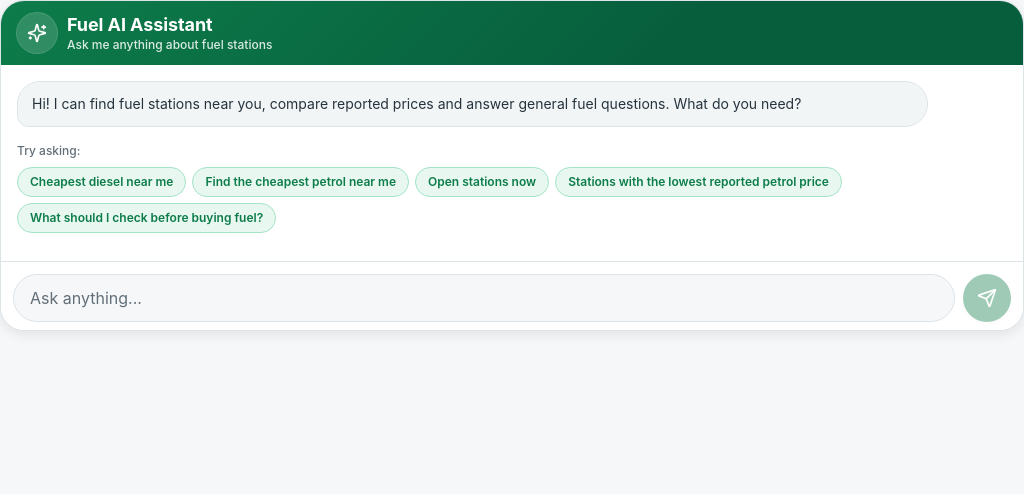
location honesty › rejects a coarse GPS fix and never sends it to the backend
Type "cheapest petrol" into the field named "Ask Fuel AI".
click(484, 298); type("cheapest petrol")  # box [13,274,955,322]
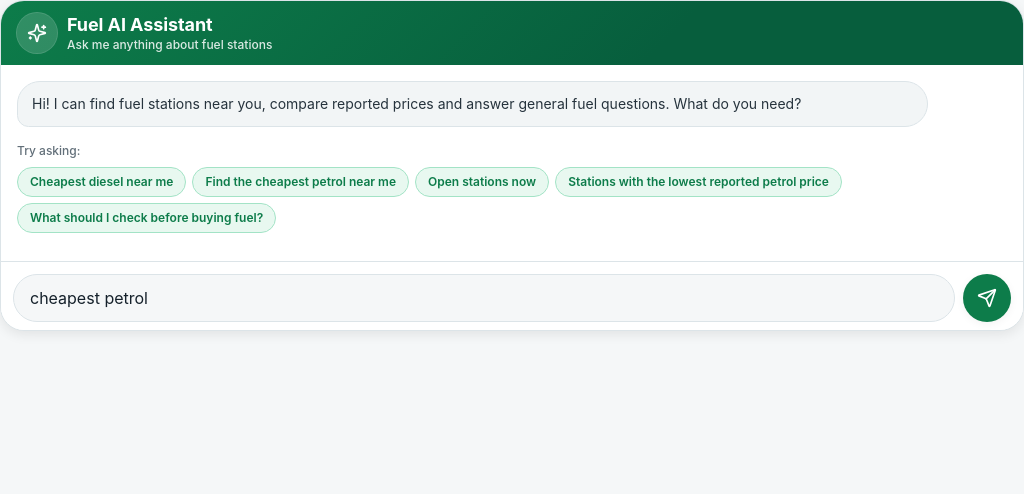
Click the button named "ask fuel ai".
click(987, 298)  # box [963,274,1011,322]
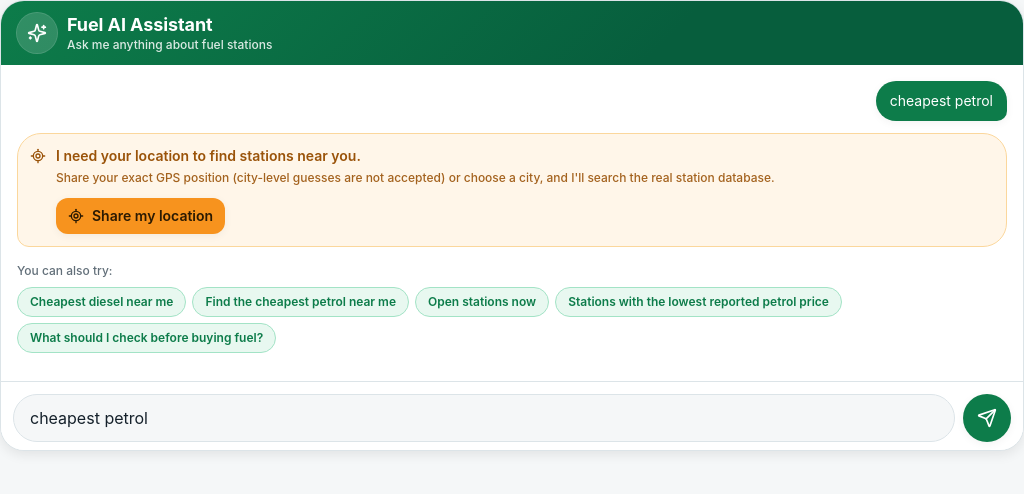
Expected: the text "I need your location to find stations near you." is shown, [56,147,361,164]
Click the button "Share my location".
click(141, 216)  # box [56,198,225,234]
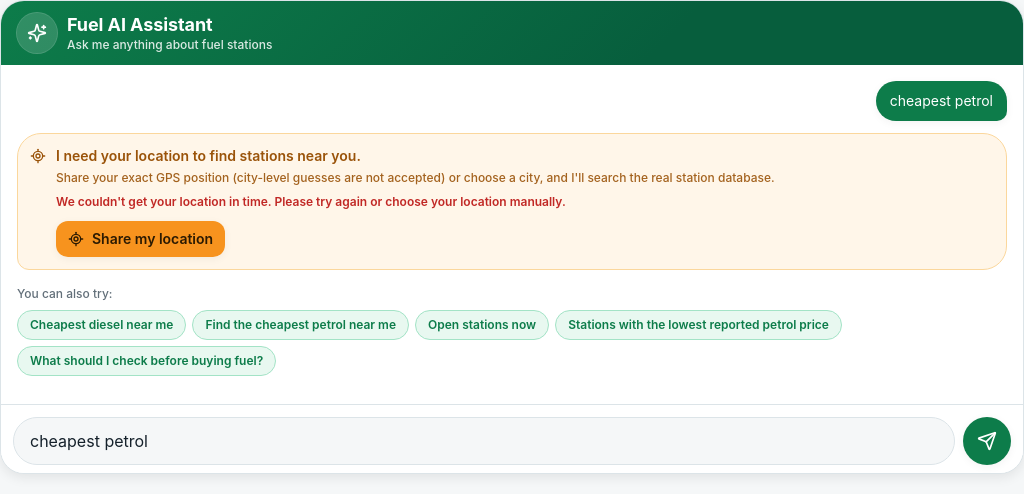
Expected: the text "couldn't get your location in time" is shown, [56,194,566,208]
